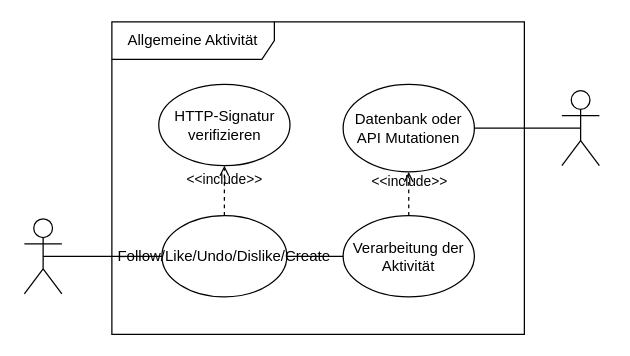
The diagram is 630 pixels wide and 356 high, and some of its shapes have lost their labels. The centre of each missing label's shape, as x and y in pixels:
"DB / API" belongs at point (580, 127).
"Nutzer" belongs at point (42, 256).
